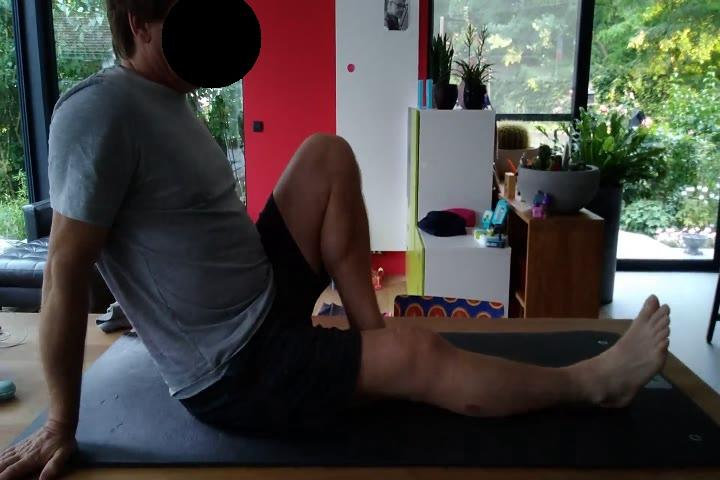lower_body: (178, 131, 673, 422)
